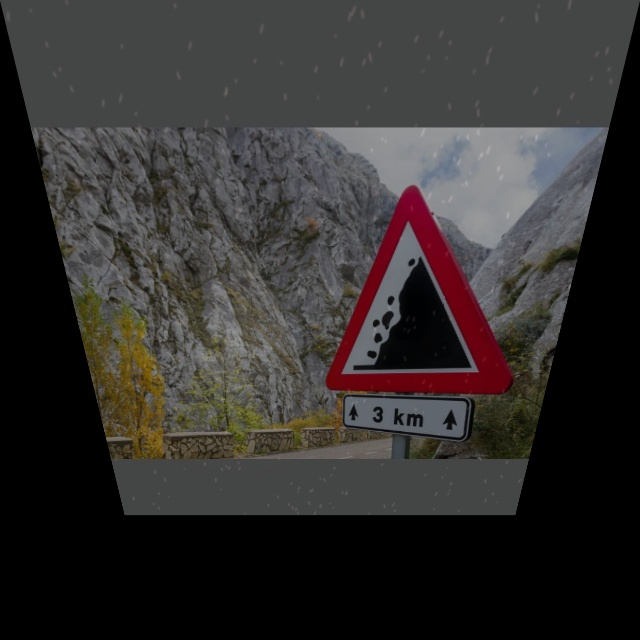Falling_Rocks: (321, 187, 547, 394)
